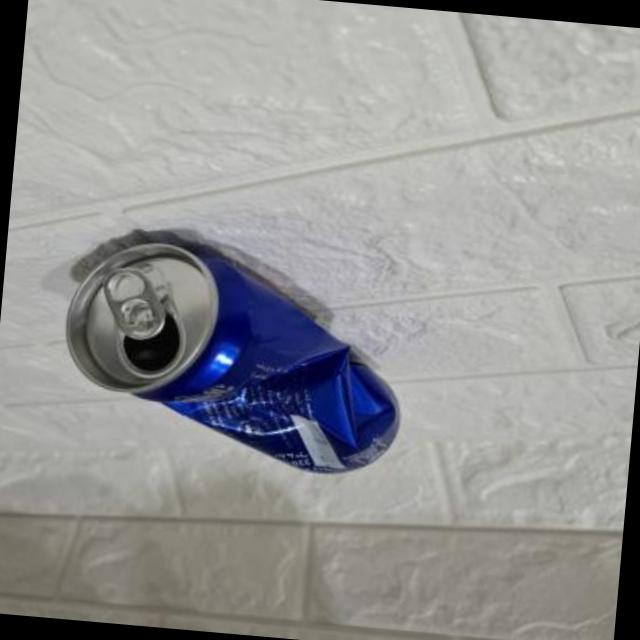metal: (63, 245, 395, 474)
